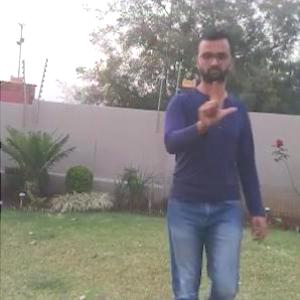land_hand: (190, 77, 239, 129)
